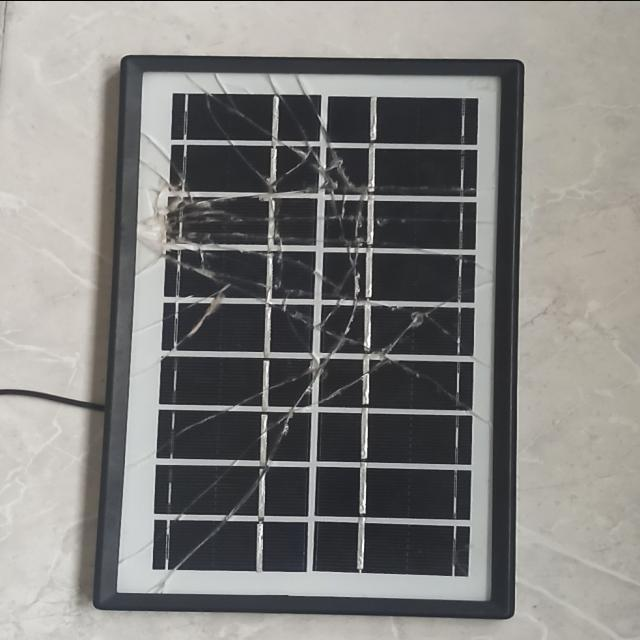faulty: (102, 56, 520, 612)
